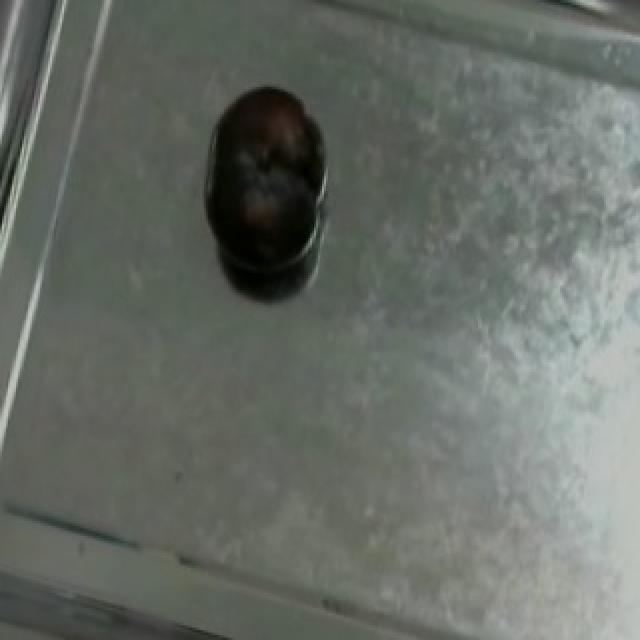Fruit: (194, 67, 330, 280)
